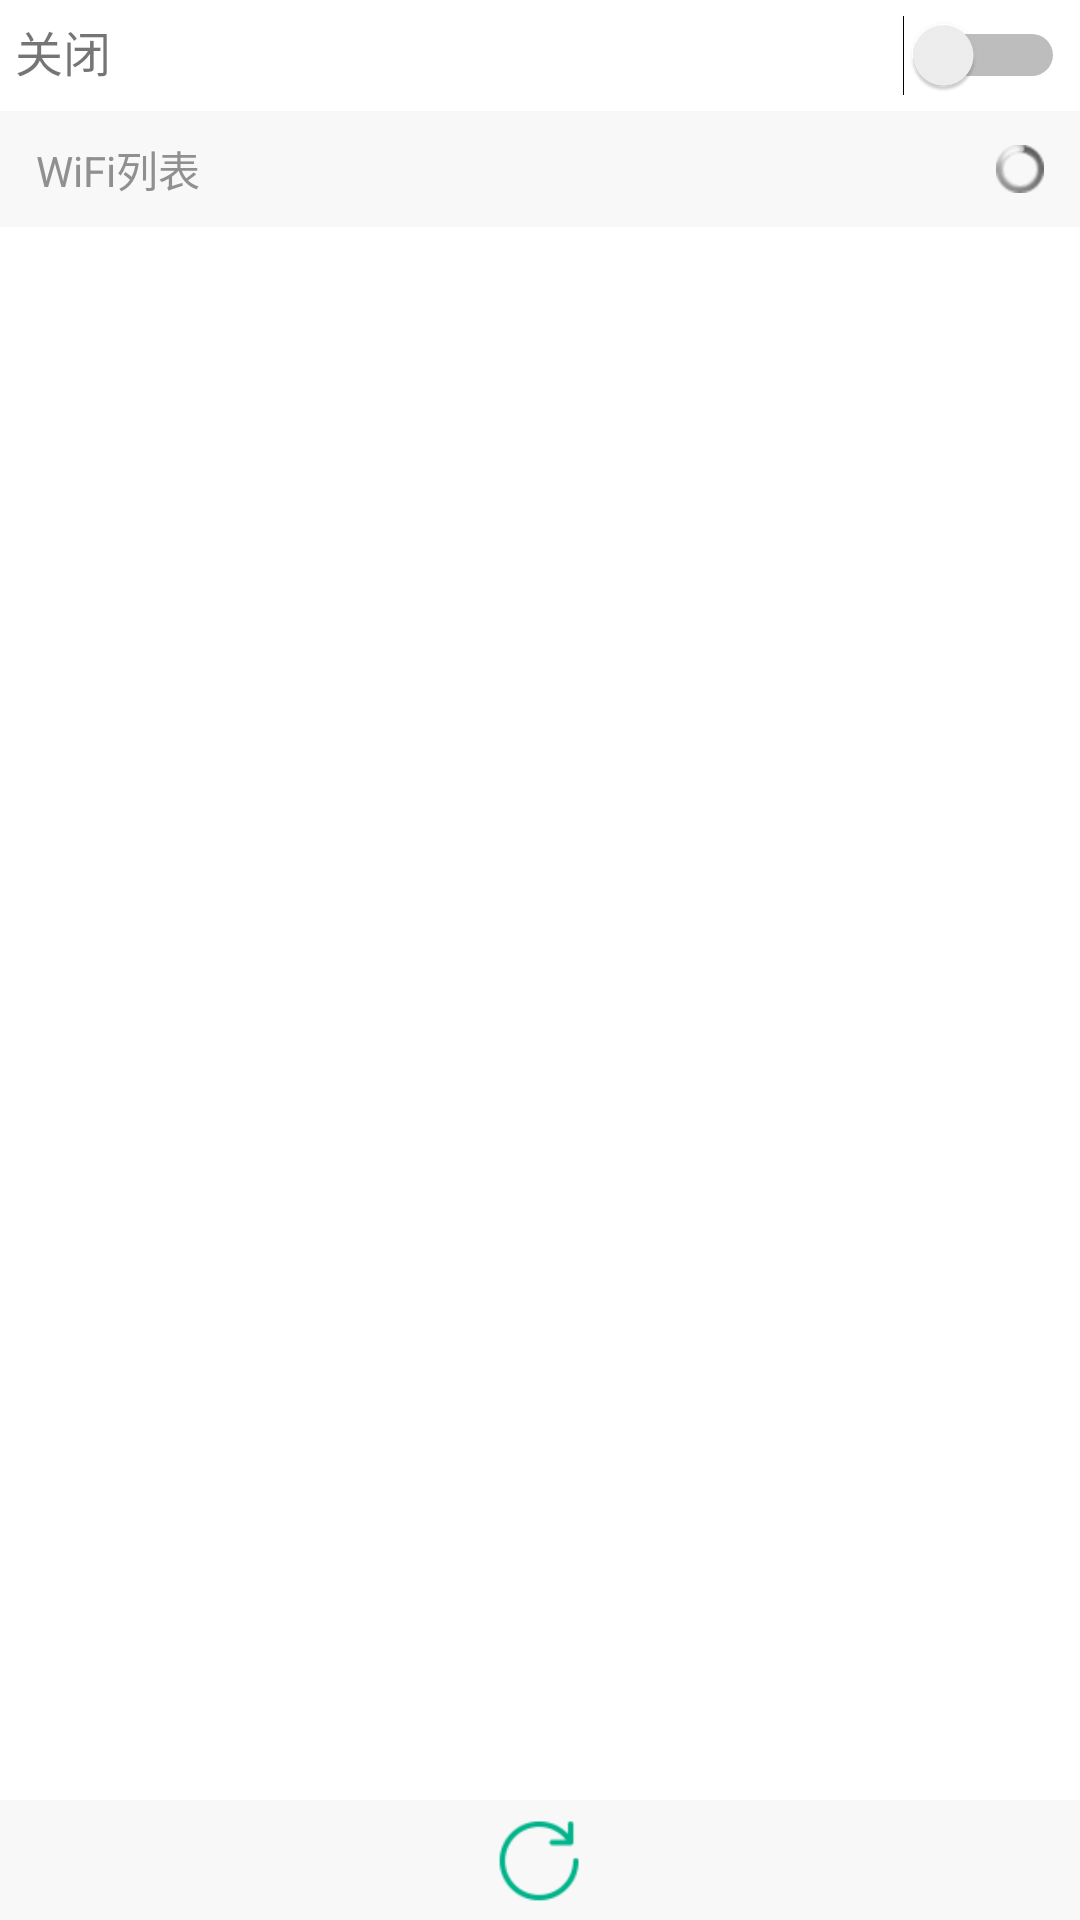

Icons on this 1080 × 1920 Android screen, each with its box as [x1,y1,x2,y2]:
refresh: [499,1821,579,1901]
